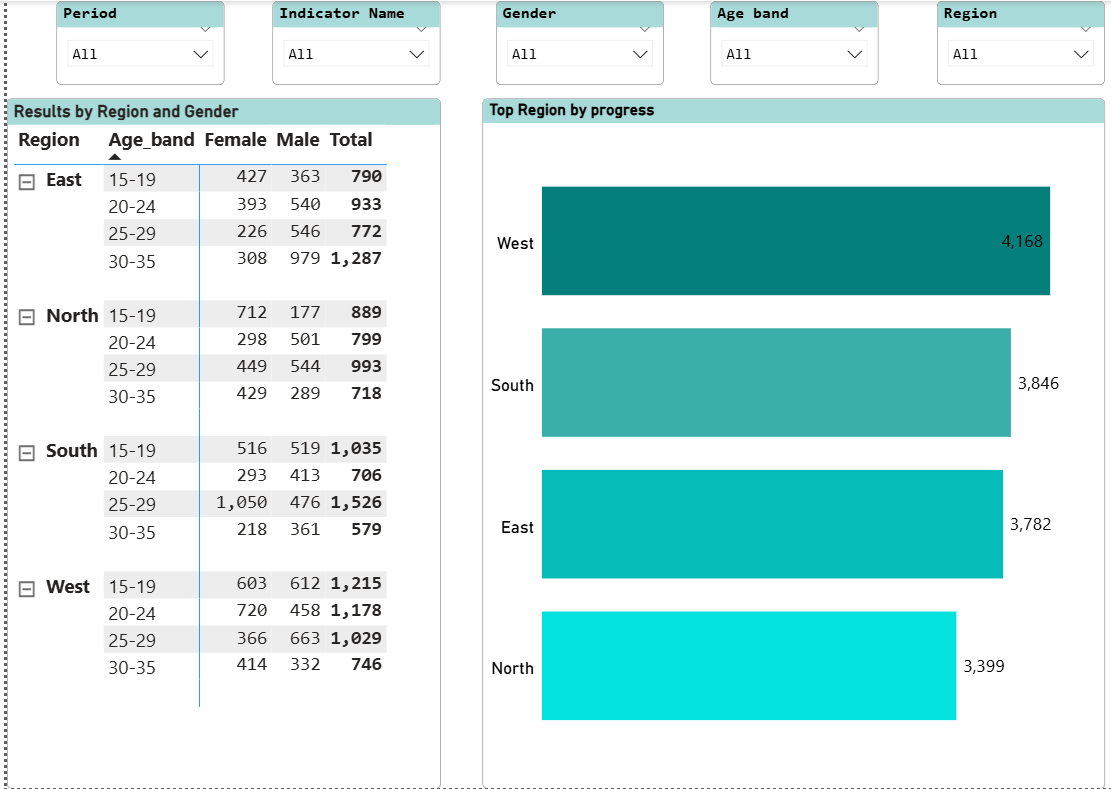

This screenshot's page, from the dashboard's own definition file:
{"tool":"powerbi","page":{"name":"Disaggregation & Hotspots","canvas":[1280,900],"ordinal":1},"visuals":[{"type":"slicer","title":"Period","fields":{"Values":["DimMonth.ReportMonthDate"]},"box":[56.6,0,192.1,96.1],"z":0},{"type":"slicer","title":"Indicator Name","fields":{"Values":["vw_indicator_summary_national.indicator_name"]},"box":[303.6,0,192.1,96.1],"z":1000},{"type":"slicer","title":"Gender","fields":{"Values":["gold_indicator_mart.gender"]},"box":[559.2,0,192.1,96.1],"z":2000},{"type":"slicer","title":"Age band","fields":{"Values":["gold_indicator_mart.age_band"]},"box":[804.5,0,192.1,96.1],"z":3000},{"type":"slicer","title":"Region","fields":{"Values":["gold_indicator_mart.region"]},"box":[1063.6,0,192.1,96.1],"z":4000},{"type":"pivotTable","title":"Results by Region and Gender","fields":{"Rows":["gold_indicator_mart.region","gold_indicator_mart.age_band"],"Values":["DimMonth.Total Actual"],"Columns":["gold_indicator_mart.gender"]},"box":[0,111.5,495.8,789.1],"z":5000},{"type":"clusteredBarChart","title":"Top Region by progress","fields":{"Category":["gold_indicator_mart.Region"],"Y":["DimMonth.Total Actual"]},"box":[543.8,111.5,711.9,789.1],"z":6000}]}

Visuals, with their boxes in screenshot pixels (x1, y1, x2, y2), scaled from the page's 1280x900 canvas onto the 1111x789 screenshot:
"Period" slicer: bbox(49, 0, 216, 84)
"Indicator Name" slicer: bbox(264, 0, 430, 84)
"Gender" slicer: bbox(485, 0, 652, 84)
"Age band" slicer: bbox(698, 0, 865, 84)
"Region" slicer: bbox(923, 0, 1090, 84)
"Results by Region and Gender" pivotTable: bbox(0, 98, 430, 788)
"Top Region by progress" clusteredBarChart: bbox(472, 98, 1090, 788)
